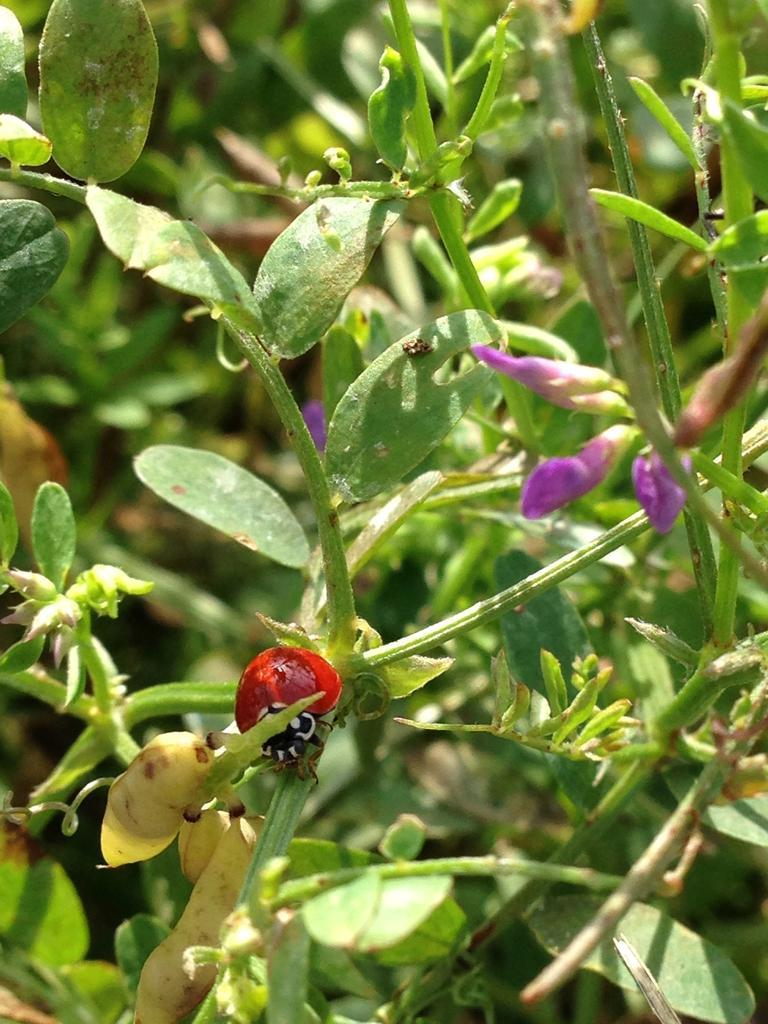ladybug: (234, 644, 345, 796)
